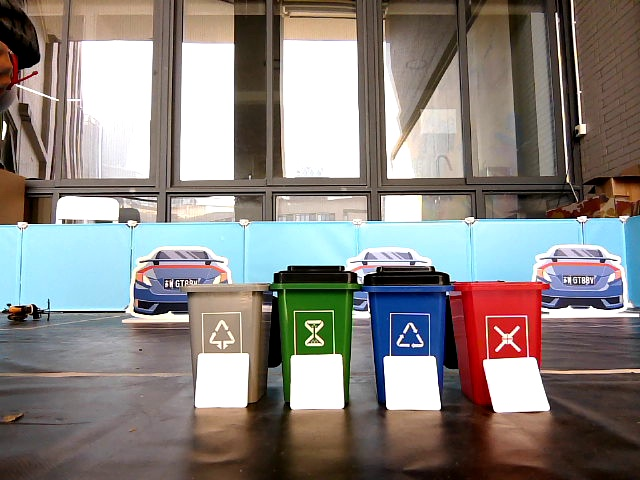blue_close: (368, 266, 440, 353)
green_close: (277, 266, 348, 351)
grey_open: (191, 283, 263, 353)
red_open: (459, 281, 537, 356)
